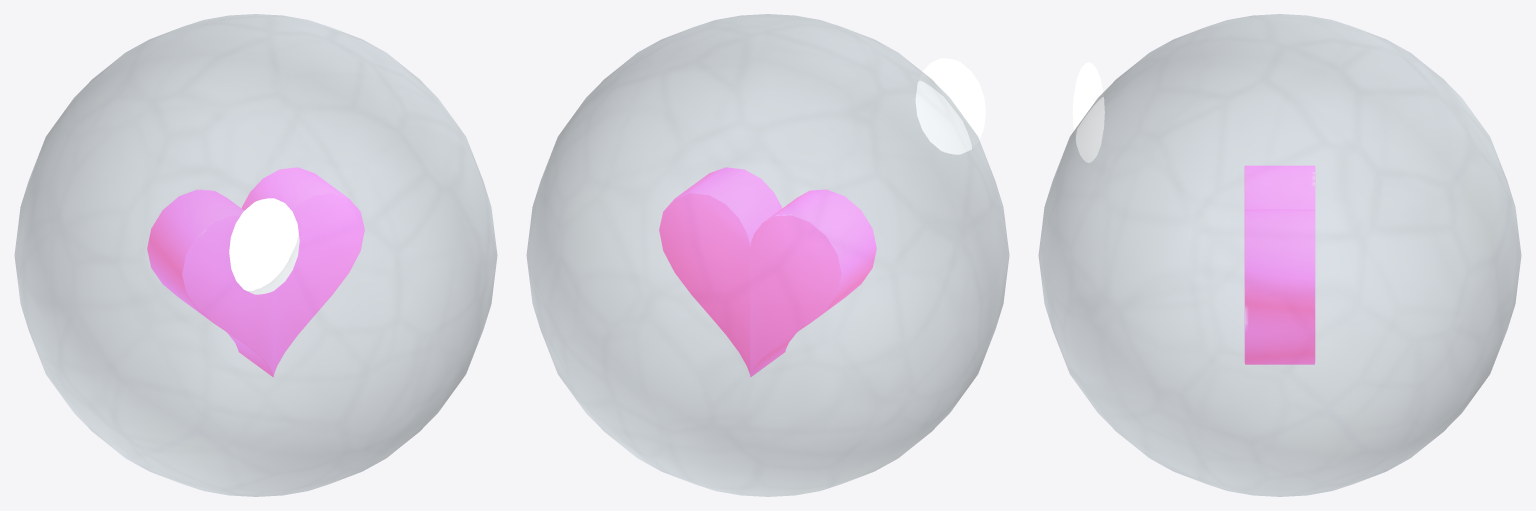
File: sf_powerup_bubble.glb
The picture shows the model from 3 angles, left to right: view 1: azimuth 30°, elevation 25°; view 2: azimuth 150°, elevation 25°; view 3: azimuth 270°, elevation 25°; orthographic projection.
Visible parts, largest first — view 1: sf_powerup_bubble; view 2: sf_powerup_bubble; view 3: sf_powerup_bubble.
Boxes of the visible parts, <box> form: sf_powerup_bubble: <box>14,14,497,496</box>; sf_powerup_bubble: <box>526,14,1009,496</box>; sf_powerup_bubble: <box>1038,14,1521,496</box>.
Size of the model in its own units: 0.96 by 0.96 by 0.96.
3 materials, 3 textured.
